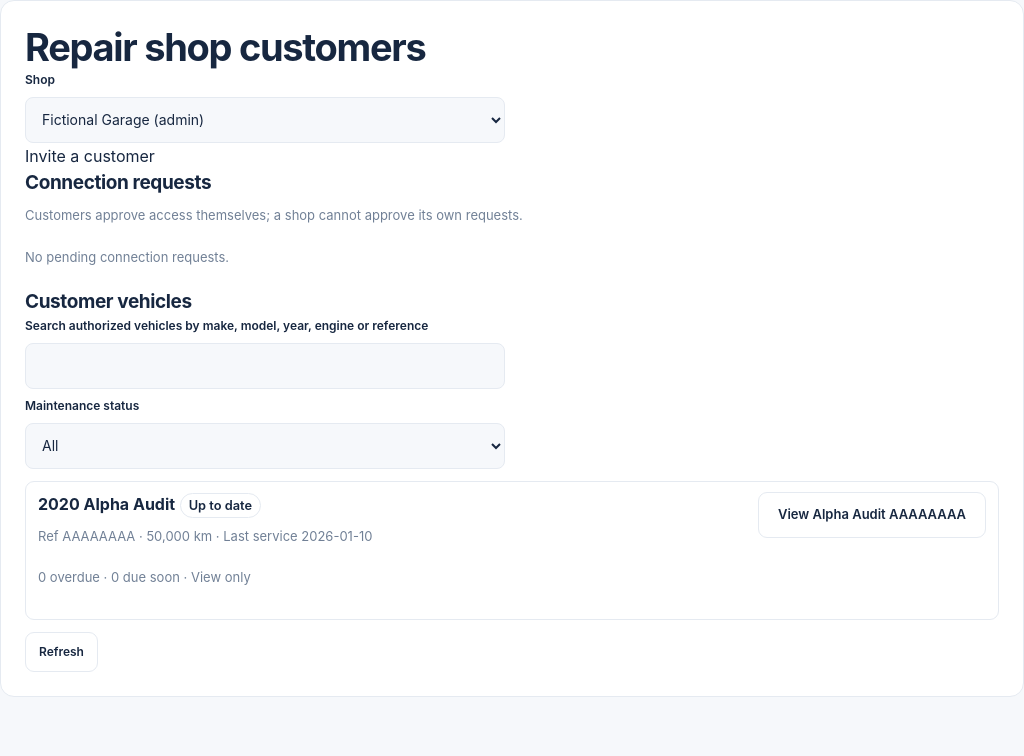
Scenario: clears the previous shop selection and history when switching shops
Expected: the text "2020 Alpha Audit" is shown, [38,494,175,514]
Click the button "View Alpha Audit AAAAAAAA" at (872, 515), box [758,492,986,538]
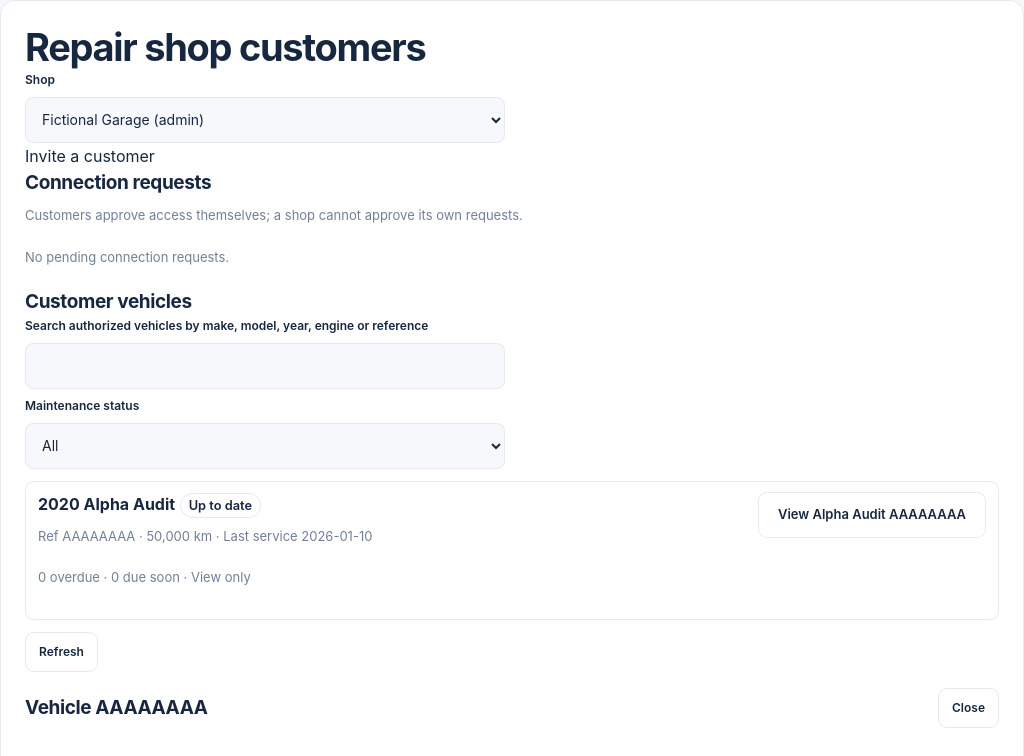
Select "Second Garage (mechanic)" in the dropdown labelled "Shop" at (265, 120), box [25,97,505,143]
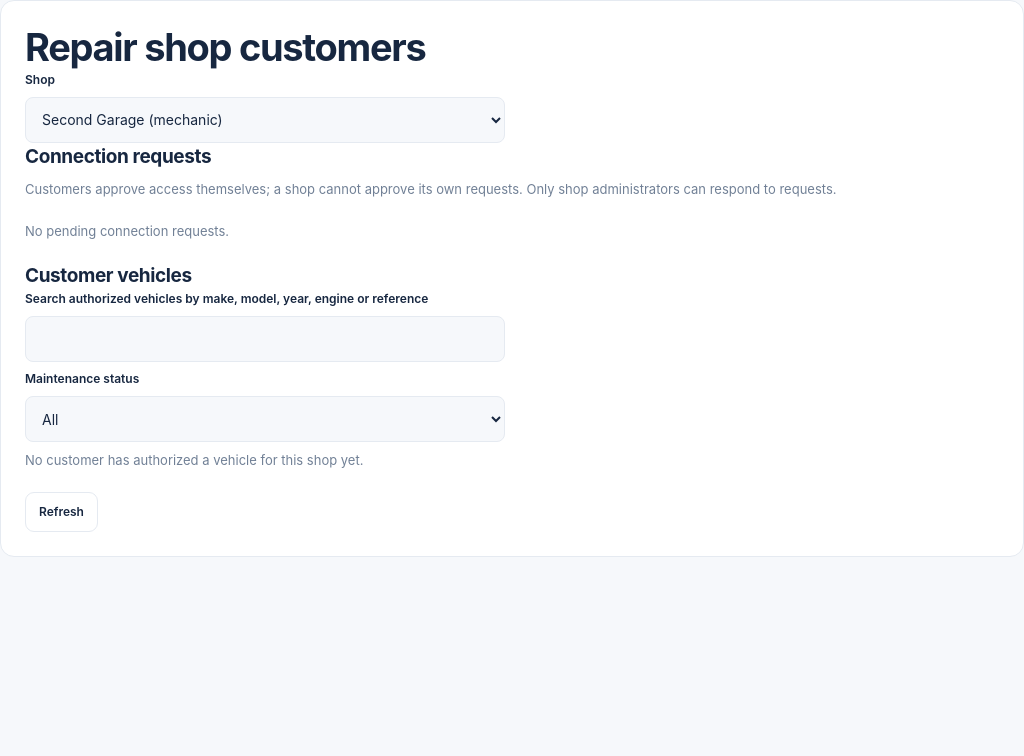
Now the text "No customer has authorized a vehicle for this shop yet." is shown, box [25,452,364,468]
Now the text "2020 Alpha Audit" is gone
Now the link "Invite a customer" is gone
